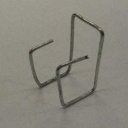Metal: (18, 8, 113, 116)
